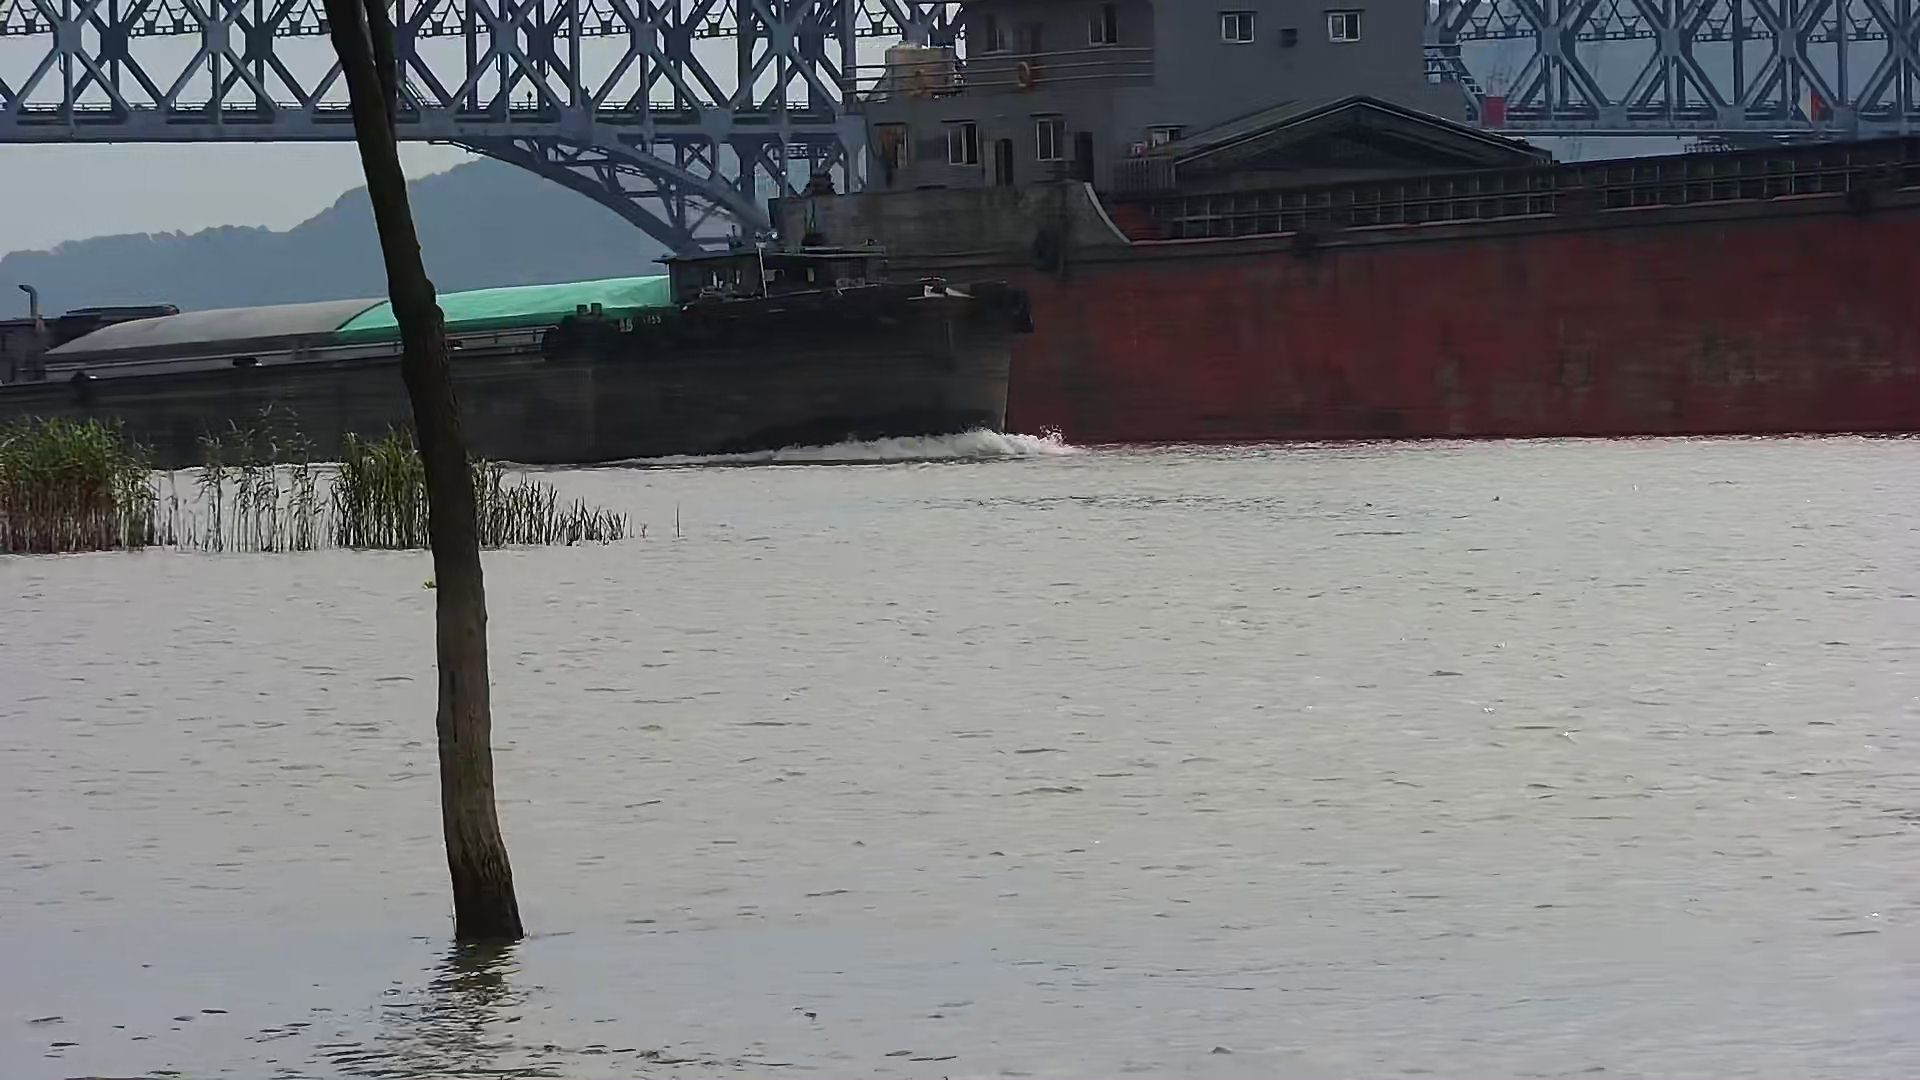bridge: (1, 3, 1920, 248)
grass: (1, 419, 646, 551)
ship: (771, 1, 1920, 443), (3, 247, 1033, 463)
tree: (330, 1, 521, 935)
